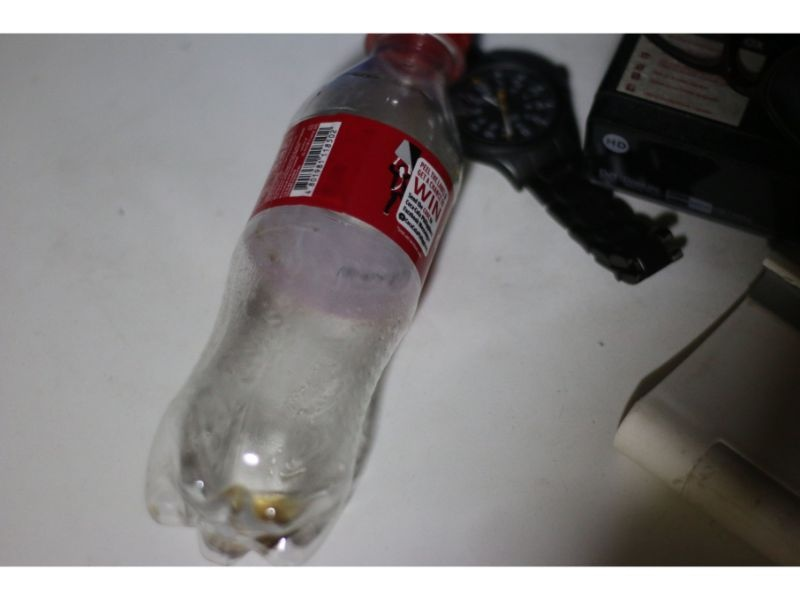PET #1: (137, 35, 478, 562)
